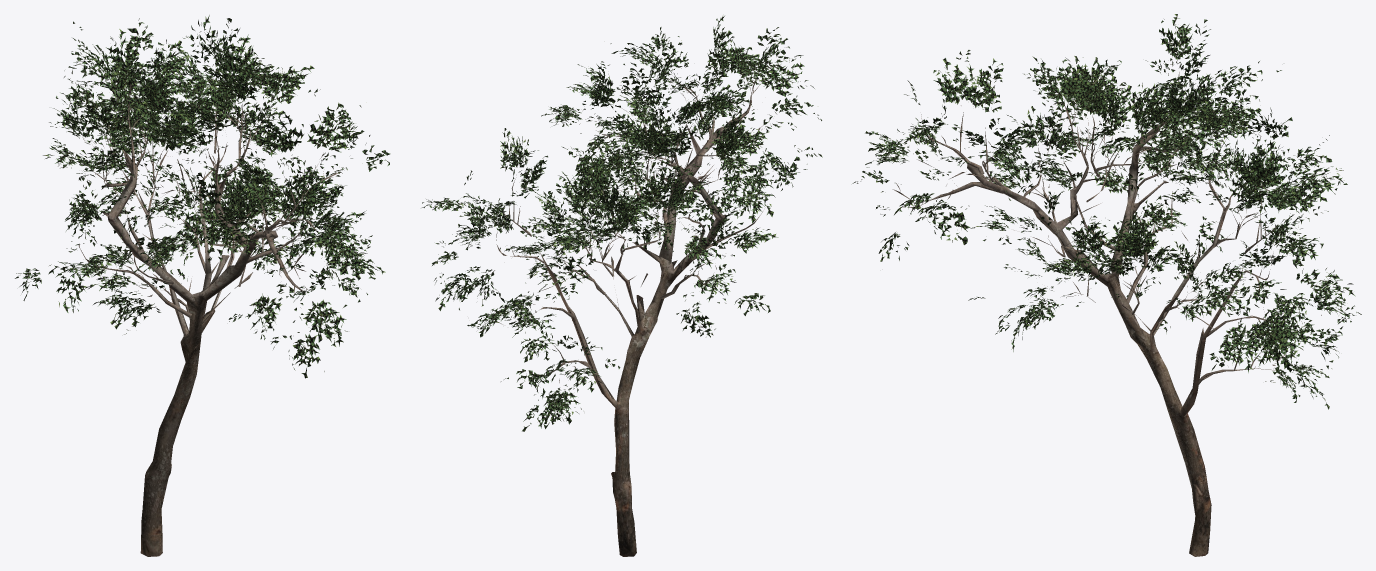
The model's file is tree-small.glb.
3 views of the same model, side by side, from view 1: azimuth 30°, elevation 25°; view 2: azimuth 150°, elevation 25°; view 3: azimuth 270°, elevation 25° (orthographic). The views are drawn at different scales.
Parts seen in each view (by area): view 1: tree_small_02_LOD0; view 2: tree_small_02_LOD0; view 3: tree_small_02_LOD0.
Boxes of the visible parts, x1,y1,x2,y2 form: tree_small_02_LOD0: [15, 15, 390, 556]; tree_small_02_LOD0: [422, 16, 822, 556]; tree_small_02_LOD0: [852, 14, 1361, 556].
Size of the model in its own units: 2.88 by 4.55 by 4.2.
3 materials, 3 textured.
